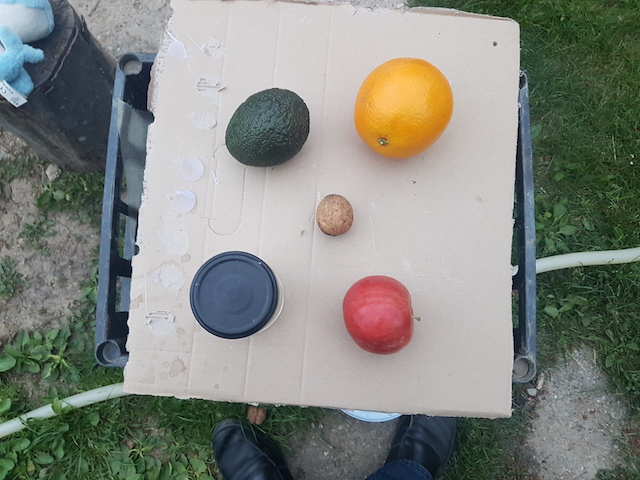apple: (341, 271, 427, 354)
avocado: (221, 81, 314, 167)
nut: (311, 190, 355, 235)
orange: (349, 56, 457, 161)
recipient: (188, 251, 282, 341)
